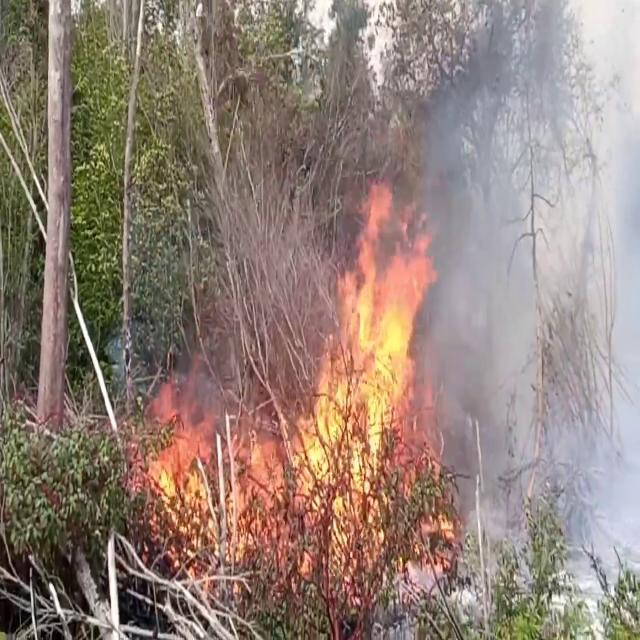Fire: (302, 184, 441, 556), (140, 368, 300, 568)
Smoke: (405, 1, 640, 598)
